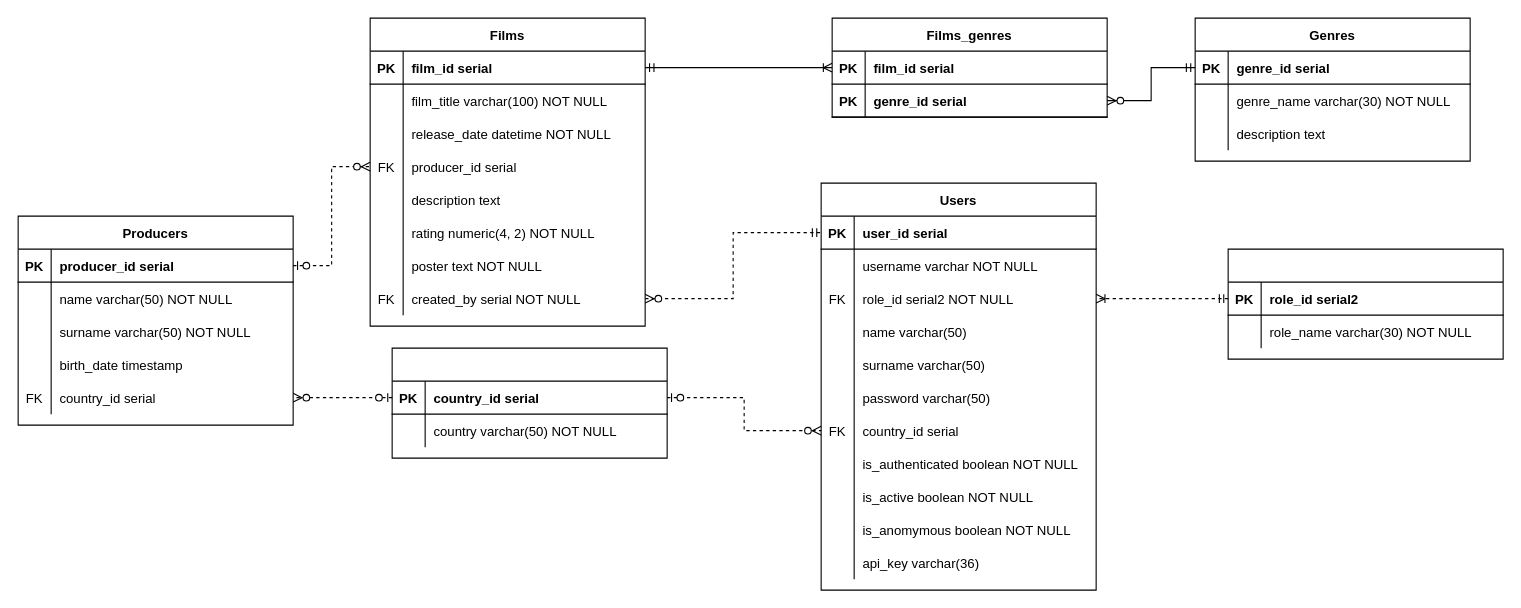
Some shapes in this 1521 by 608 pixel diagram are drawn without their labels. Each missing label, with the box of its shape:
Countries: (391, 347, 667, 458)
Roles: (1227, 248, 1503, 359)
